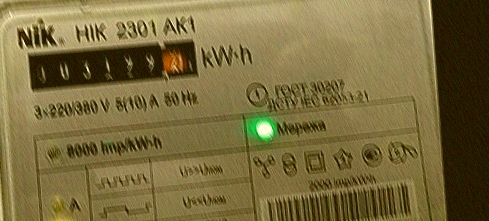0: (60, 59, 72, 79), (37, 62, 47, 81)
1: (103, 53, 114, 72)
3: (82, 58, 93, 78)
6: (170, 56, 181, 71)
9: (124, 50, 136, 71), (146, 51, 158, 69)
screen: (21, 29, 207, 96)
